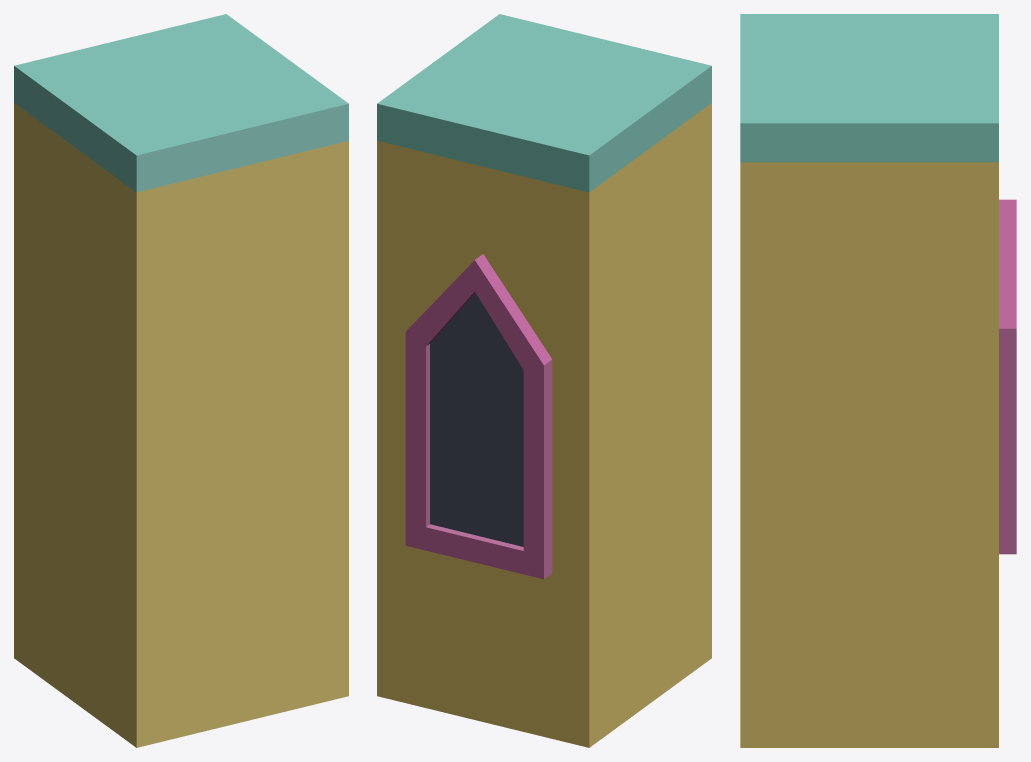
File: squidgame_props_platform4_yellow.fbx
3 views of the same model, side by side, from view 1: azimuth 30°, elevation 25°; view 2: azimuth 150°, elevation 25°; view 3: azimuth 270°, elevation 25° (orthographic). The views are drawn at different scales.
Visible parts, largest first — view 1: squidgame_props_platform4_yellow; view 2: squidgame_props_platform4_yellow; view 3: squidgame_props_platform4_yellow.
Boxes of the visible parts, bbox=[...] form: squidgame_props_platform4_yellow: bbox=[14, 14, 348, 747]; squidgame_props_platform4_yellow: bbox=[377, 14, 711, 747]; squidgame_props_platform4_yellow: bbox=[740, 14, 1016, 747].
Size of the model in its own units: 1.5 by 4 by 1.6.
